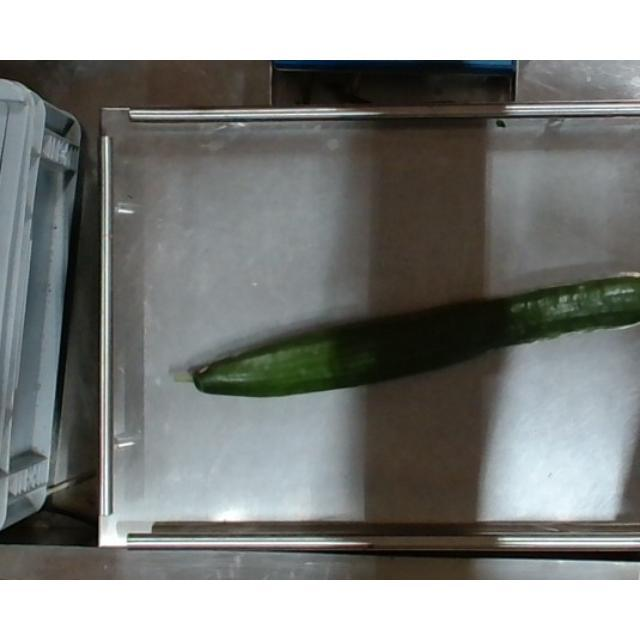cucumber: (178, 286, 640, 394)
